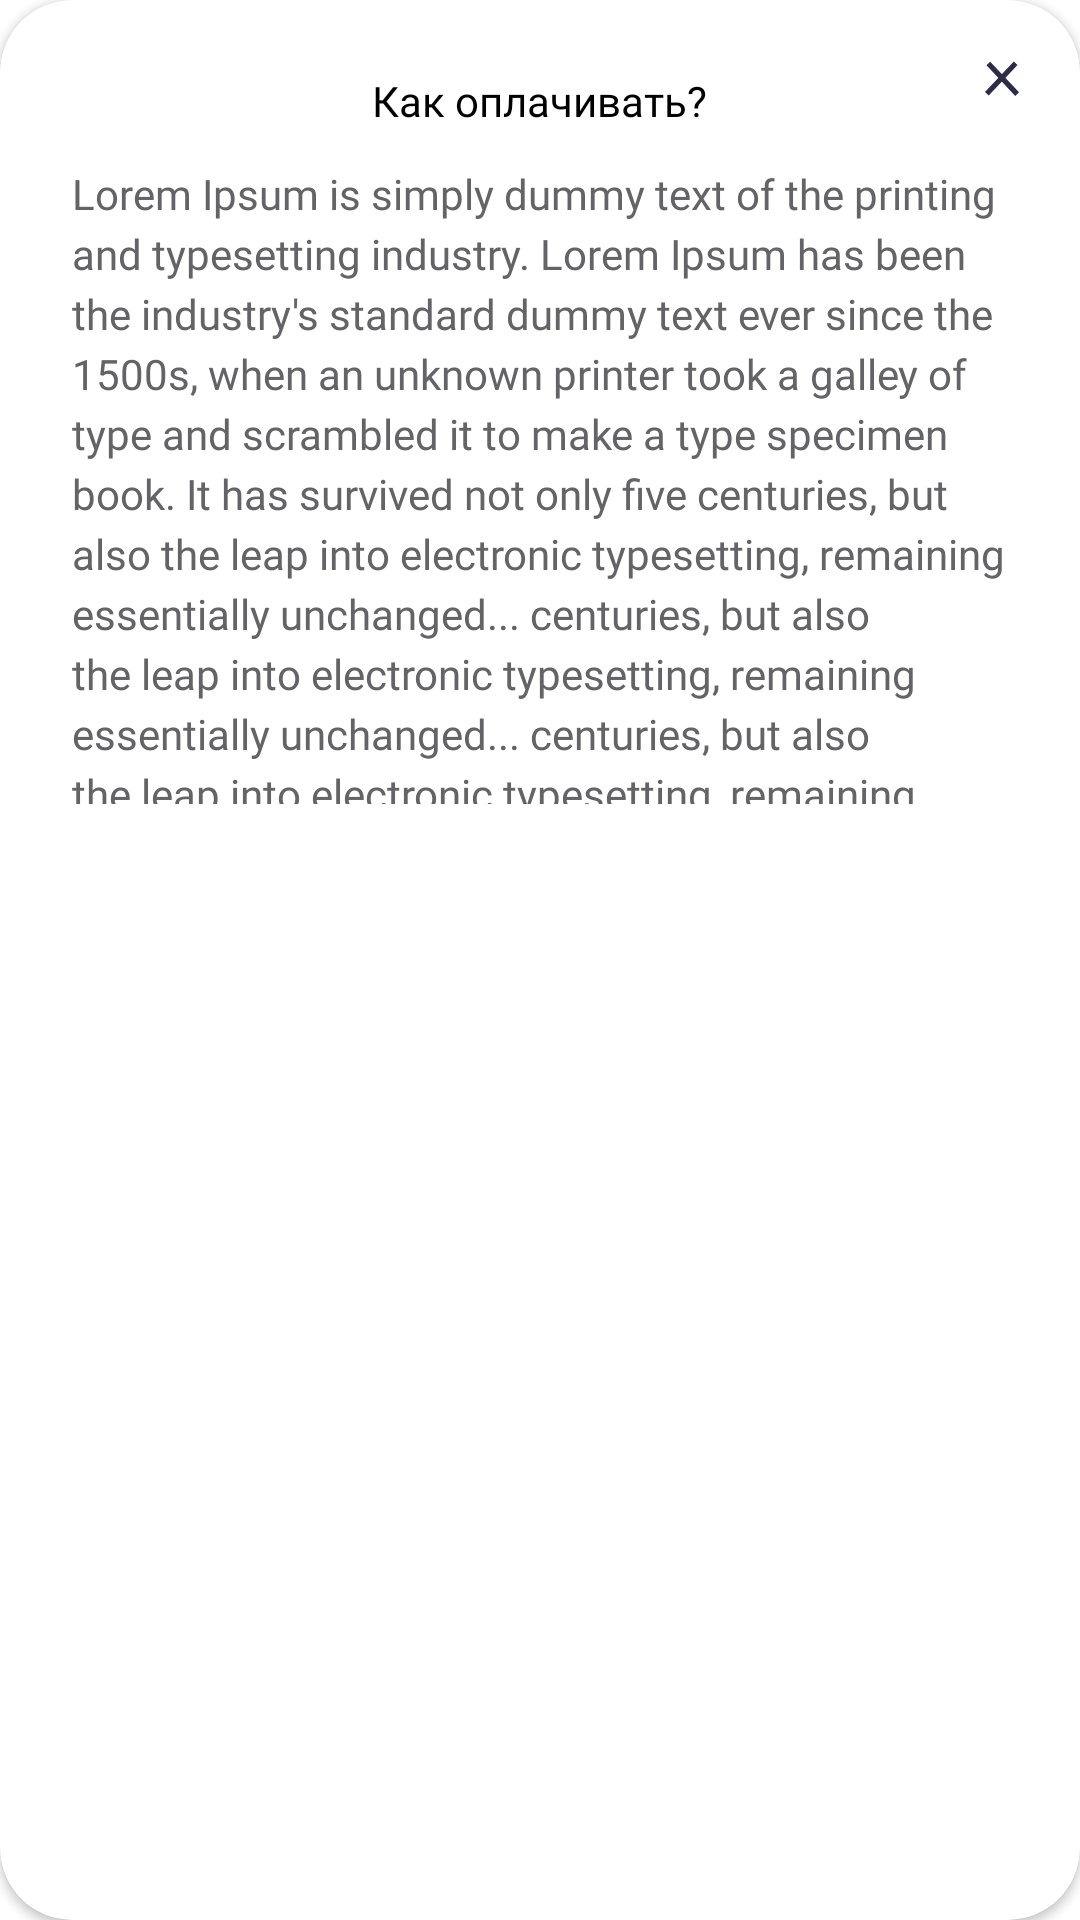

Point at icon controls on the screen. Image size 1080 × 1920, points as (x=x, y=y).
cross: (x=1002, y=78)
